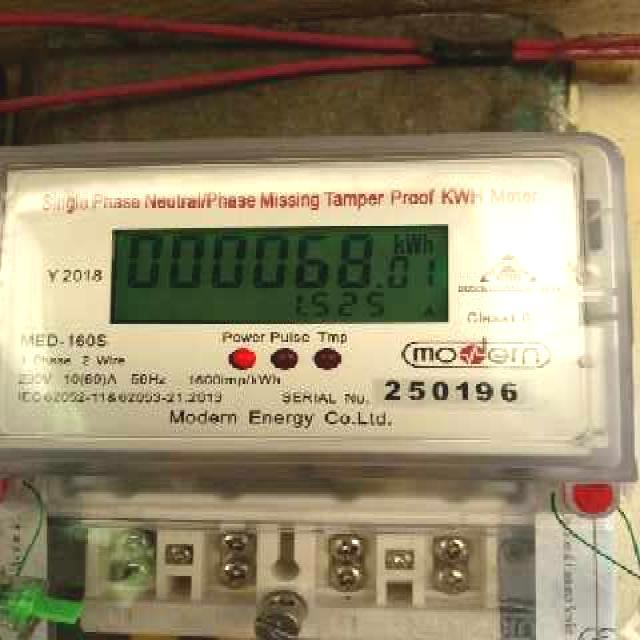LCD: (104, 218, 457, 331)
